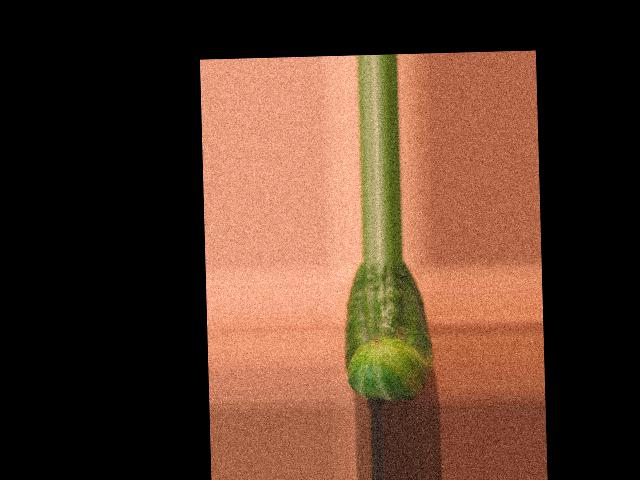cucumber: (341, 259, 433, 401)
